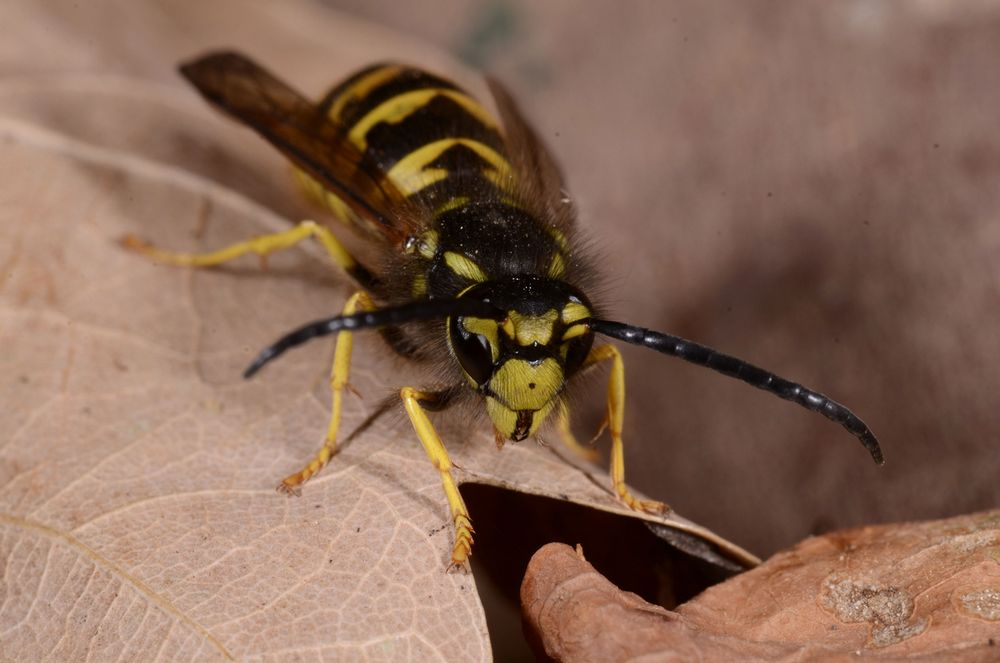chax: (125, 24, 933, 590)
